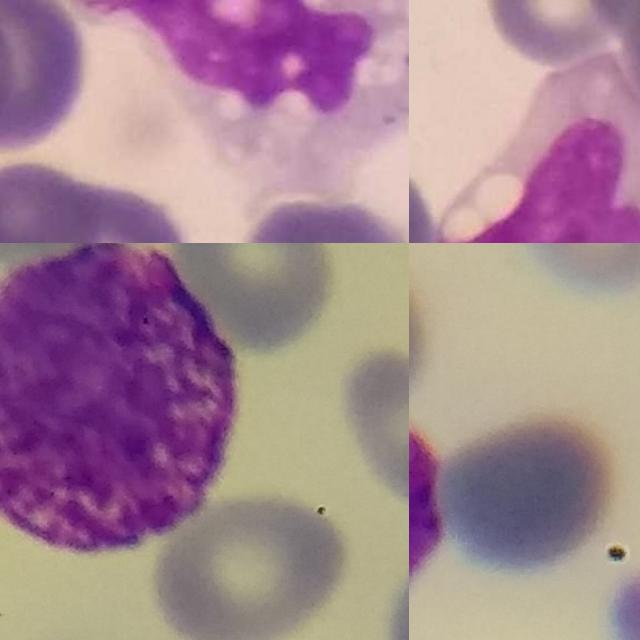Basophil: (0, 243, 241, 552)
Monocyte: (149, 0, 409, 192), (423, 49, 640, 243)
